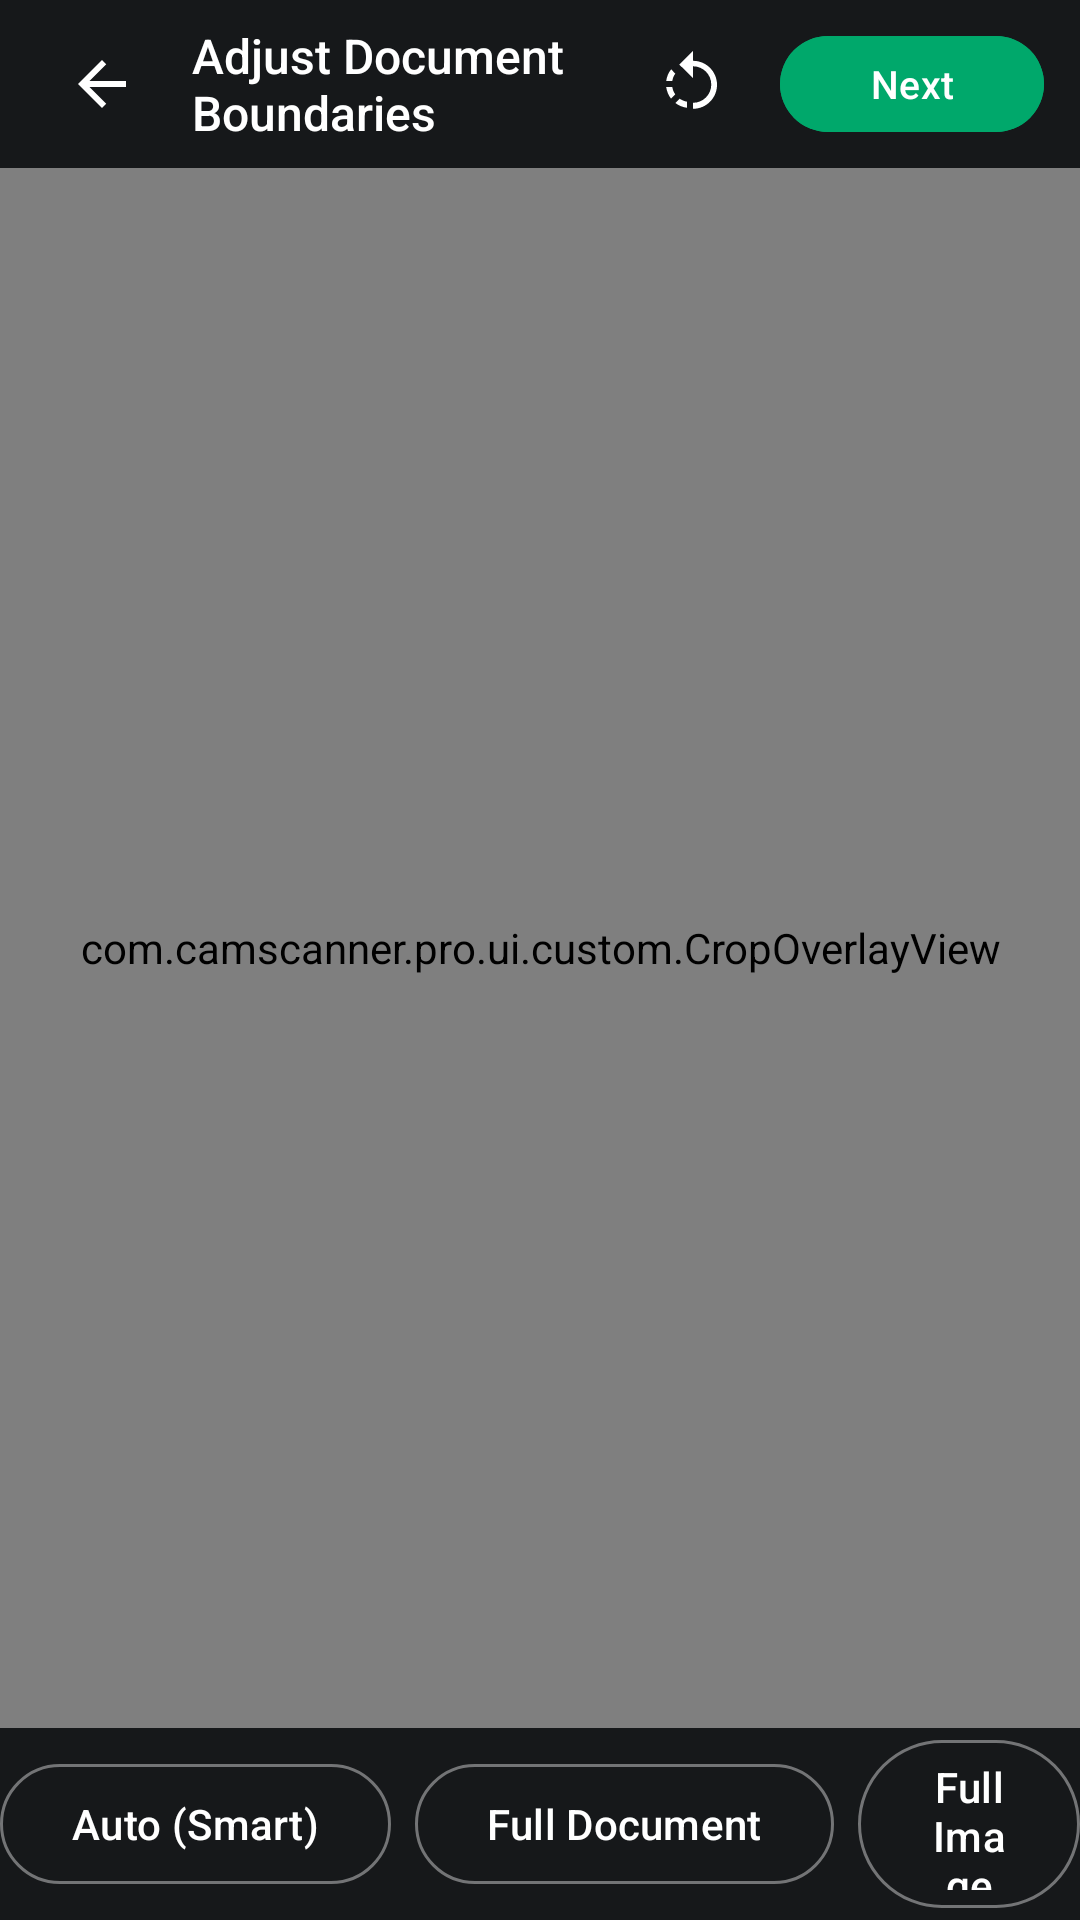

Screen size 1080x1920. Icon name, then its center in pixels as (x,y):
back: (102,84)
Rotate: (691,80)
